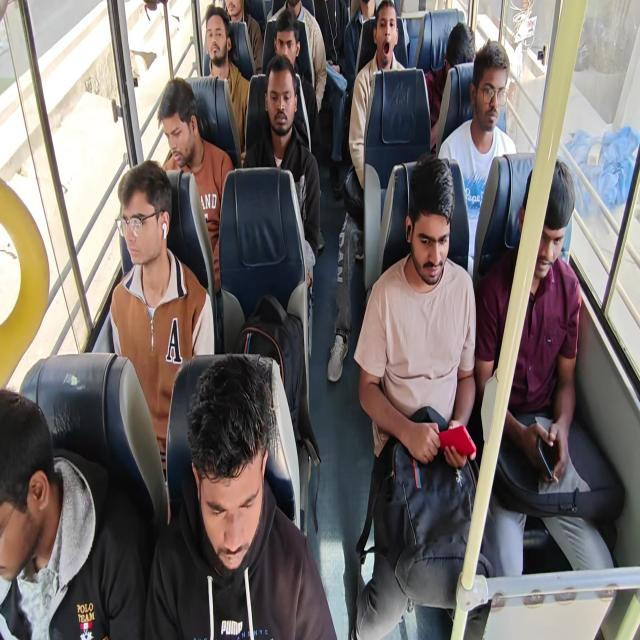person: (159, 357, 328, 640), (0, 333, 100, 640), (401, 174, 502, 380), (114, 160, 212, 334), (501, 202, 578, 364), (474, 56, 523, 146), (160, 88, 210, 172), (370, 4, 407, 92), (258, 72, 297, 141), (320, 0, 349, 92), (199, 10, 235, 80), (452, 10, 481, 82), (354, 0, 386, 44), (278, 28, 301, 88), (217, 0, 250, 36), (279, 0, 304, 39)
